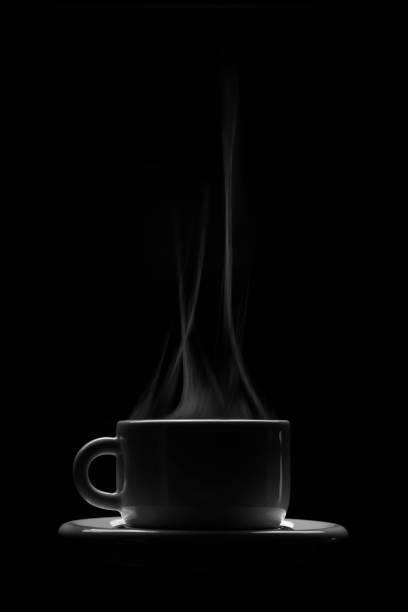cup-handle: (71, 417, 292, 530)
